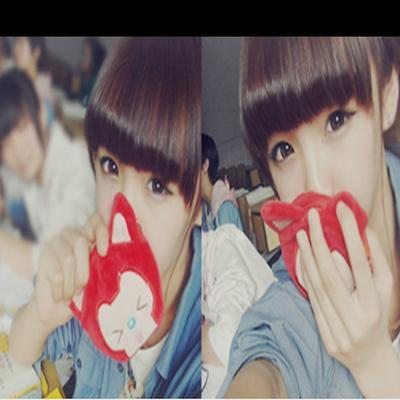Face_Mask_Not_Found: (258, 112, 393, 240), (86, 160, 188, 292)
